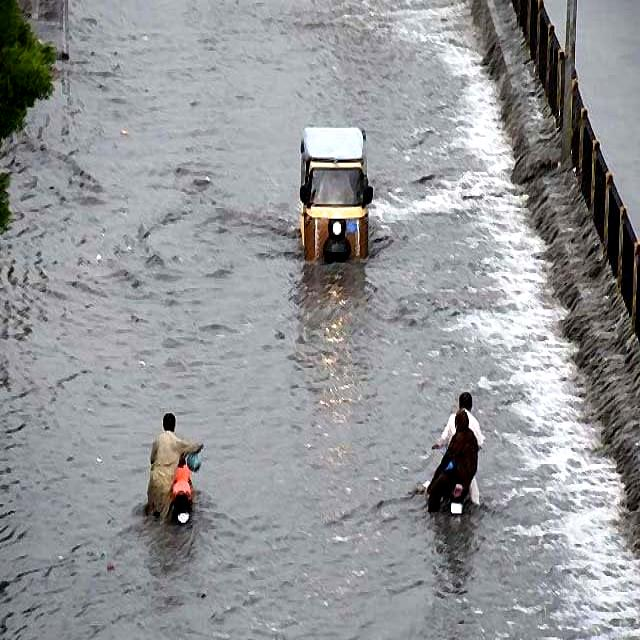civilian: (144, 399, 184, 533), (433, 407, 478, 510), (453, 376, 484, 509)
